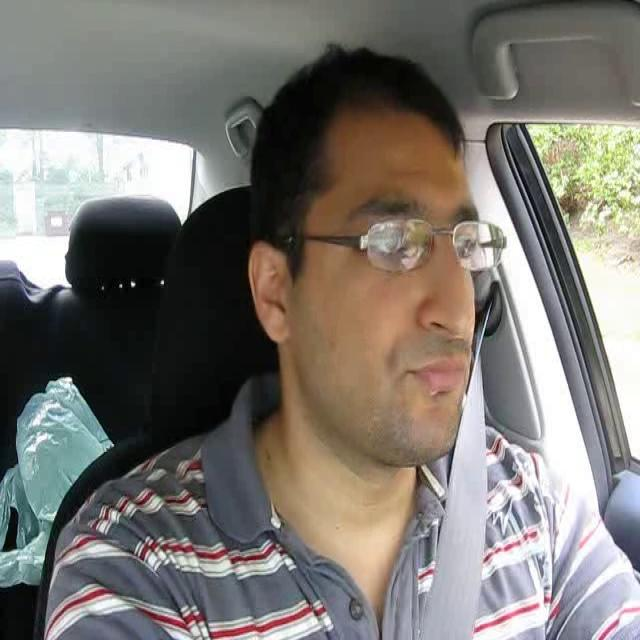close: (406, 348, 471, 398)
